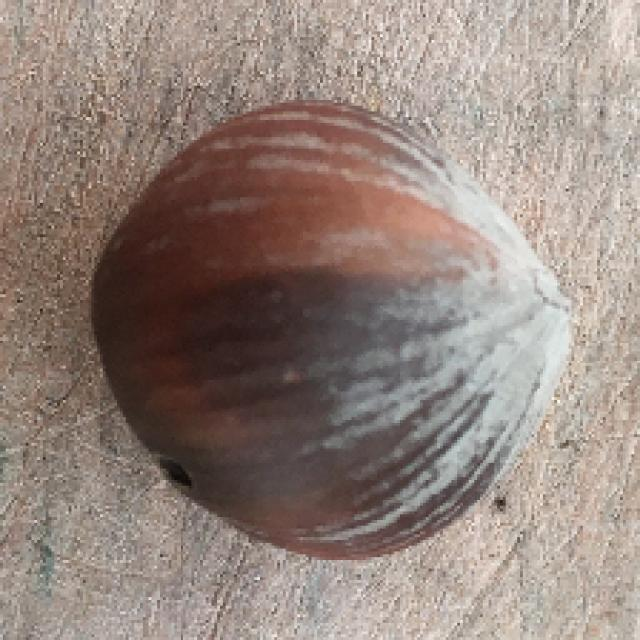DamagedHazelnut: (81, 107, 576, 558)
